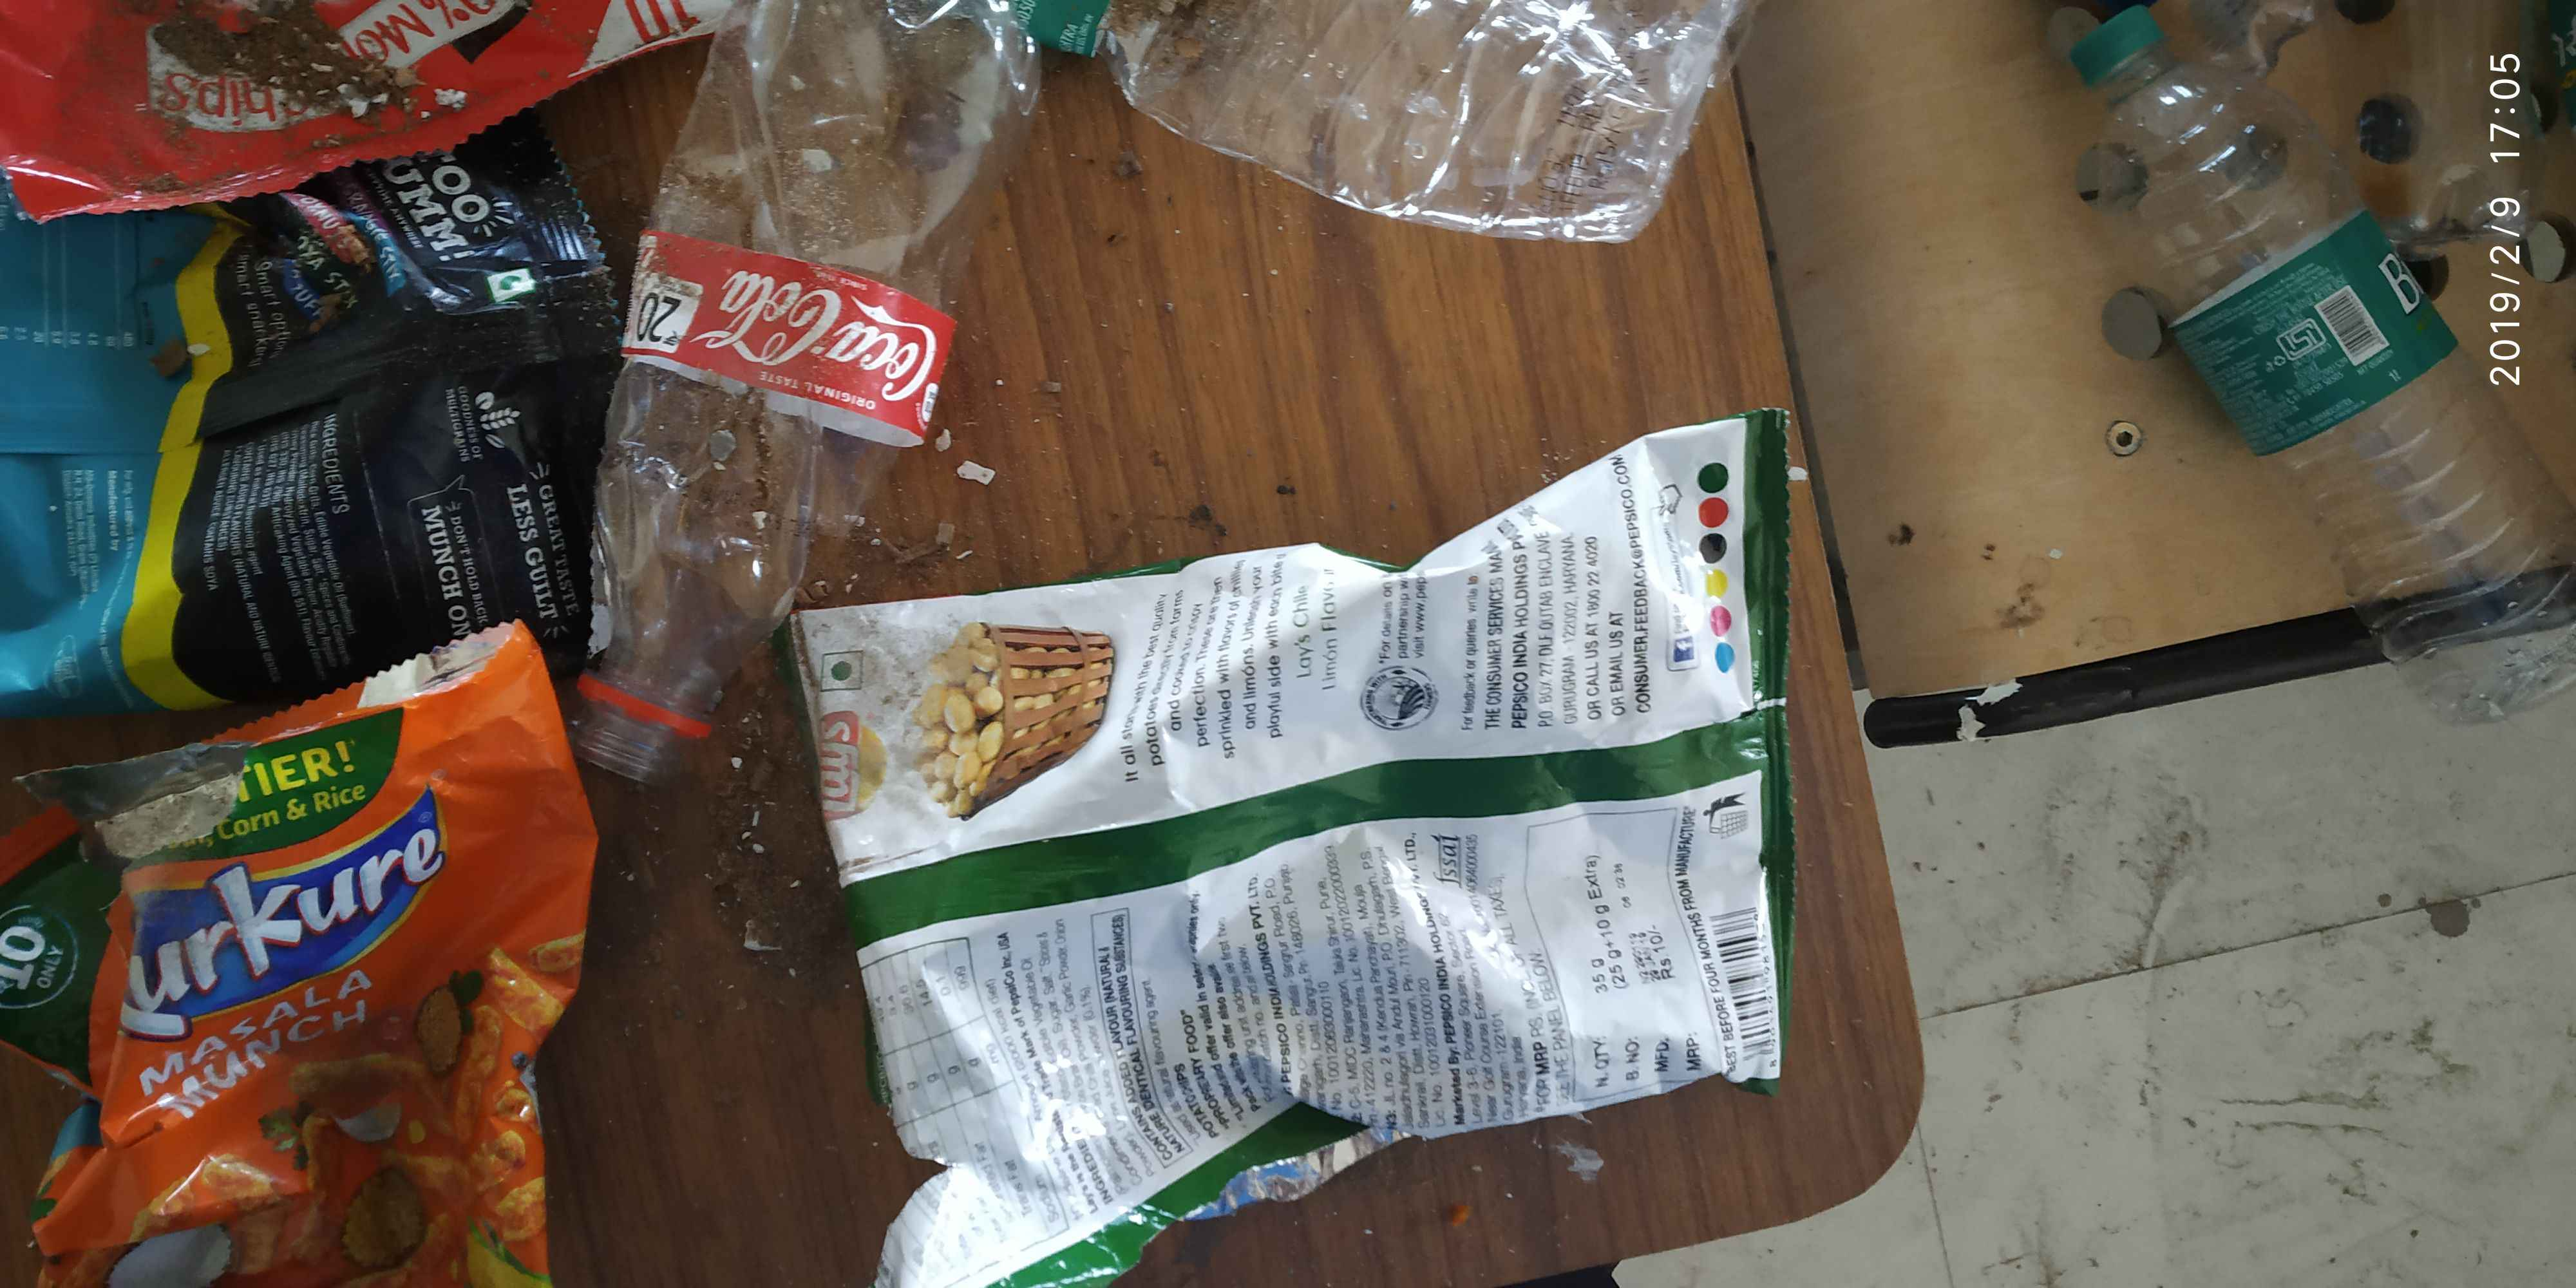Bisleri: (2242, 253, 2433, 429)
Coca-Cola: (682, 245, 969, 444)
Lays: (813, 674, 895, 838)
kurkure: (94, 830, 491, 968)
tooyumm: (368, 141, 539, 271)
